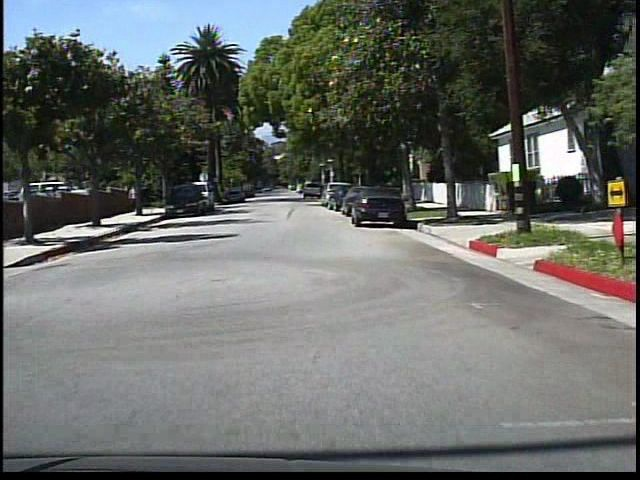person: (129, 182, 144, 215)
